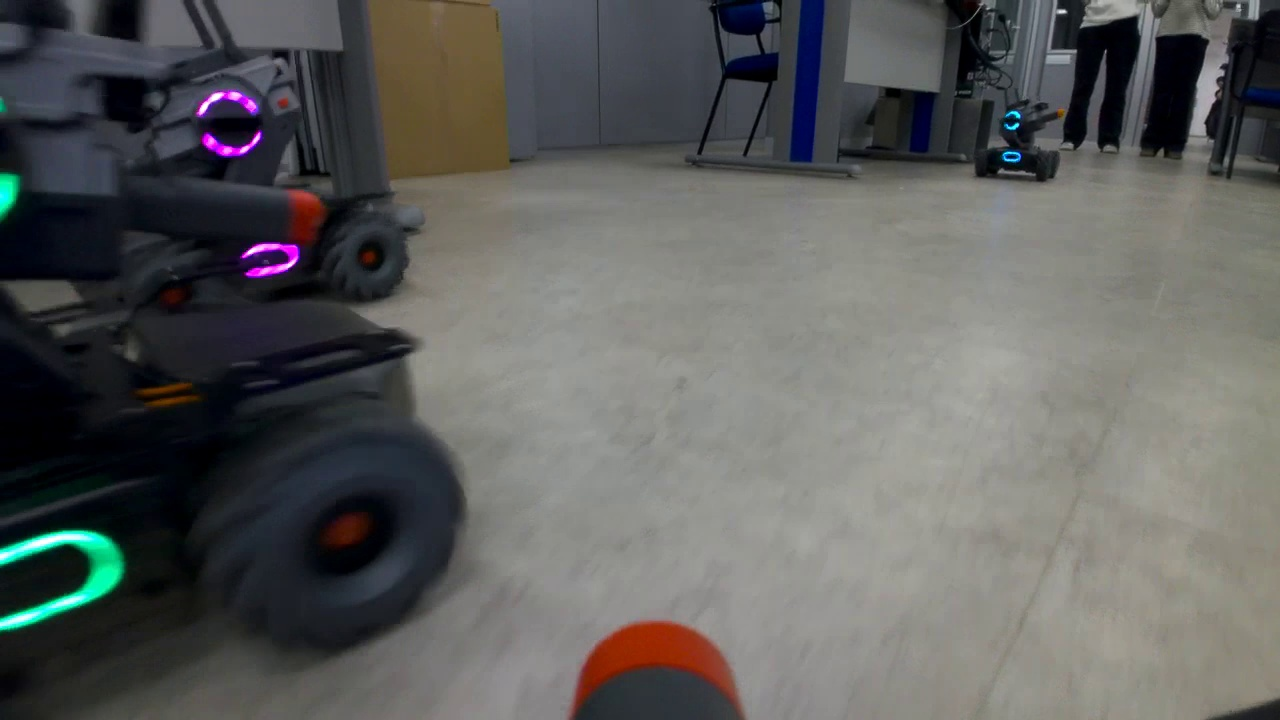robot: (1, 26, 463, 698), (971, 101, 1069, 186)
